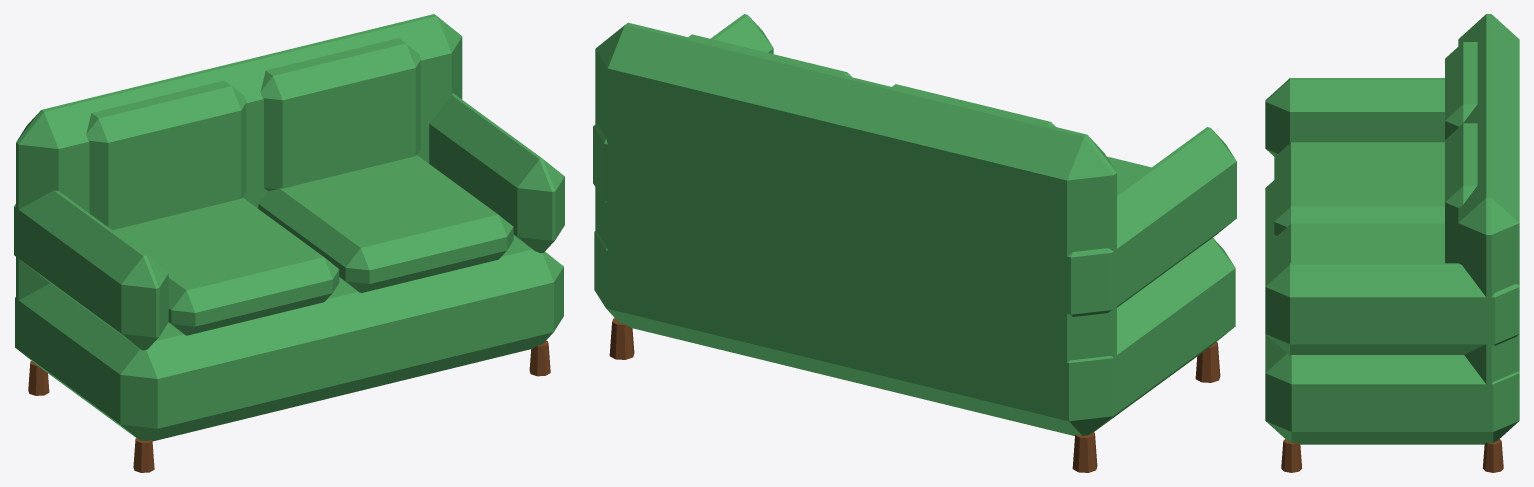
Rendered from GreenSofa.fbx.
The picture shows the model from 3 angles, left to right: view 1: azimuth 30°, elevation 25°; view 2: azimuth 150°, elevation 25°; view 3: azimuth 270°, elevation 25°; orthographic projection. The views are drawn at different scales.
Visible parts, largest first — view 1: GreenSofa; view 2: GreenSofa; view 3: GreenSofa.
Part boxes in pixels (x1=…): GreenSofa: x1=14, y1=14, x2=564, y2=472; GreenSofa: x1=593, y1=14, x2=1236, y2=472; GreenSofa: x1=1265, y1=14, x2=1519, y2=472.
Bounding box in the file's own units: 5.6 × 3.4 × 2.9.
Materials: 1 (1 with a texture image).
